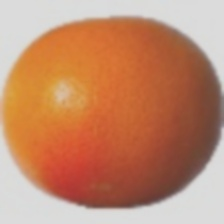grapes: (44, 59, 187, 207)
